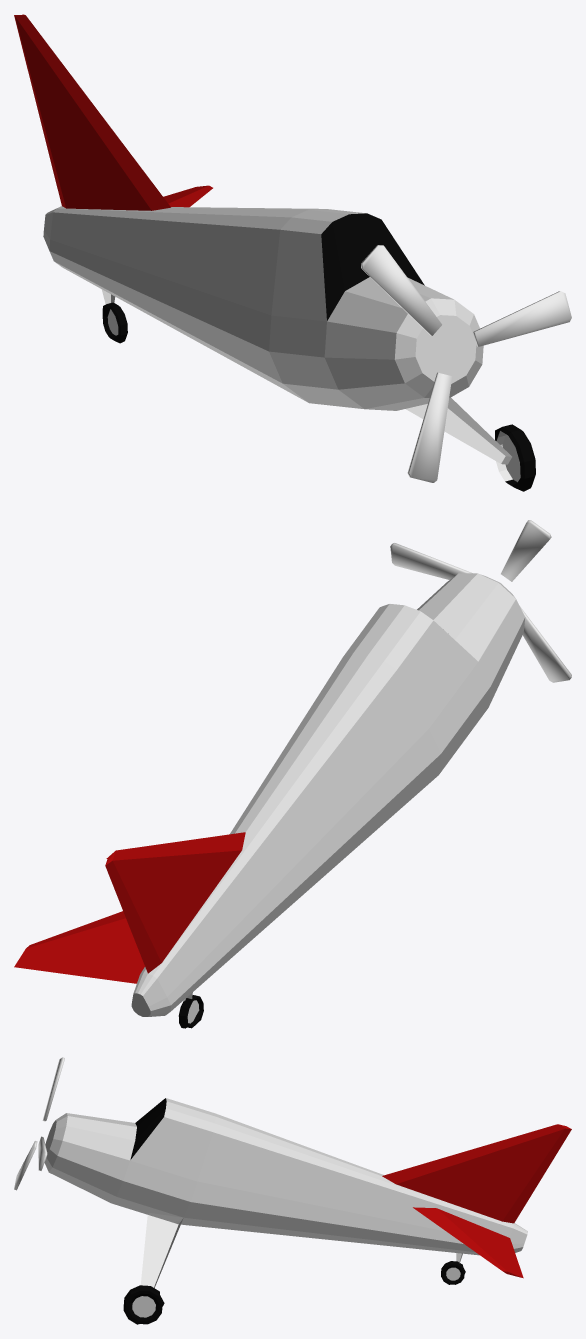
Rendered from aviao2.glb.
3 views of the same model, one above another, from view 1: azimuth 30°, elevation 25°; view 2: azimuth 150°, elevation 25°; view 3: azimuth 270°, elevation 25° (orthographic). The views are drawn at different scales.
Parts seen in each view (by area): view 1: Circle, Circle.001, Plane.003, Plane.001, Plane.002, Circle.003, Circle.004, Circle.005, Circle.002; view 2: Circle, Circle.001, Circle.002, Plane.001, Plane.002, Plane.003, Circle.005; view 3: Circle, Circle.001, Circle.002, Circle.003, Circle.004, Circle.005.
Part boxes in pixels (x1,y1,x2,y2): Circle: (43, 206, 483, 410); Circle.001: (14, 14, 170, 210); Plane.003: (407, 372, 452, 482); Plane.001: (361, 245, 441, 335); Plane.002: (473, 291, 571, 346); Circle.003: (406, 397, 511, 464); Circle.004: (495, 424, 535, 491); Circle.005: (102, 302, 127, 343); Circle.002: (163, 185, 212, 207); Circle: (131, 573, 525, 1016); Circle.001: (105, 832, 245, 973); Circle.002: (14, 911, 144, 983); Plane.001: (501, 520, 551, 581); Plane.002: (390, 543, 472, 579); Plane.003: (520, 606, 571, 682); Circle.005: (178, 995, 203, 1028); Circle: (44, 1098, 527, 1255); Circle.001: (382, 1124, 571, 1223); Circle.002: (413, 1207, 523, 1278); Circle.003: (140, 1213, 183, 1287); Circle.004: (123, 1285, 164, 1324); Circle.005: (441, 1261, 465, 1284).
Bounding box in the file's own units: 6.54 × 9.52 × 22.94.
